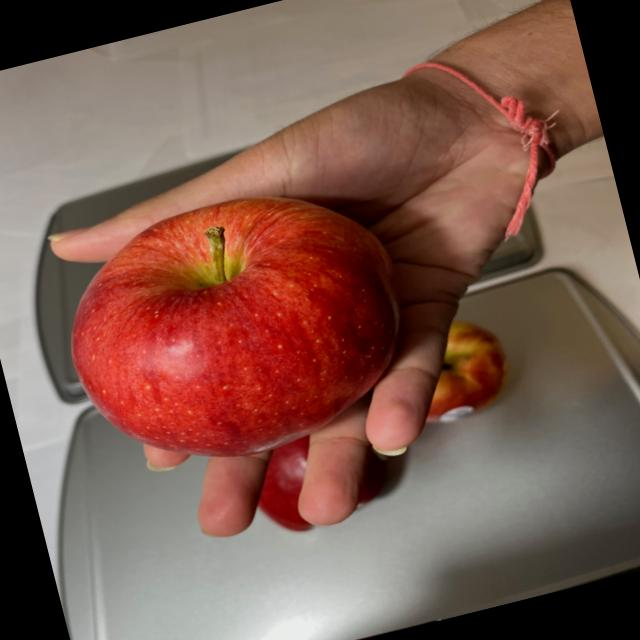apple: (41, 164, 430, 488)
